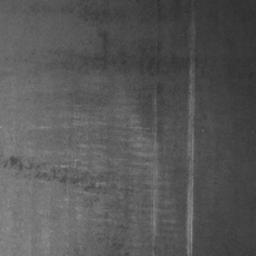Bright scratch: (187, 24, 197, 256)
